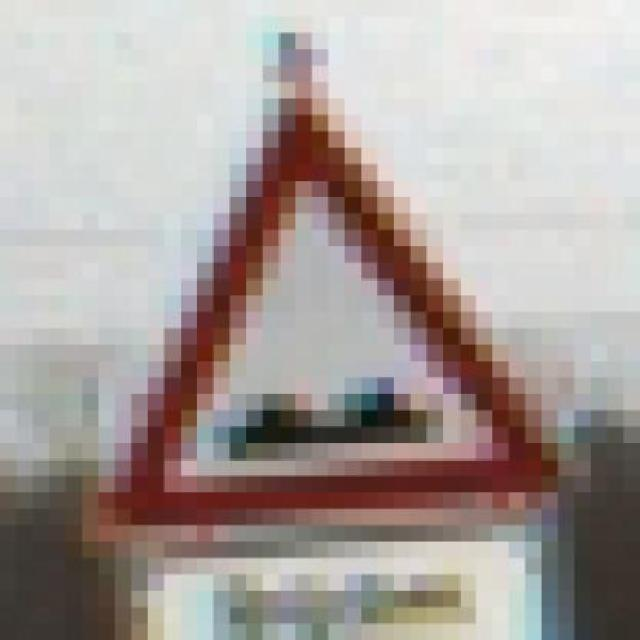Uneven Road: (82, 81, 575, 542)
